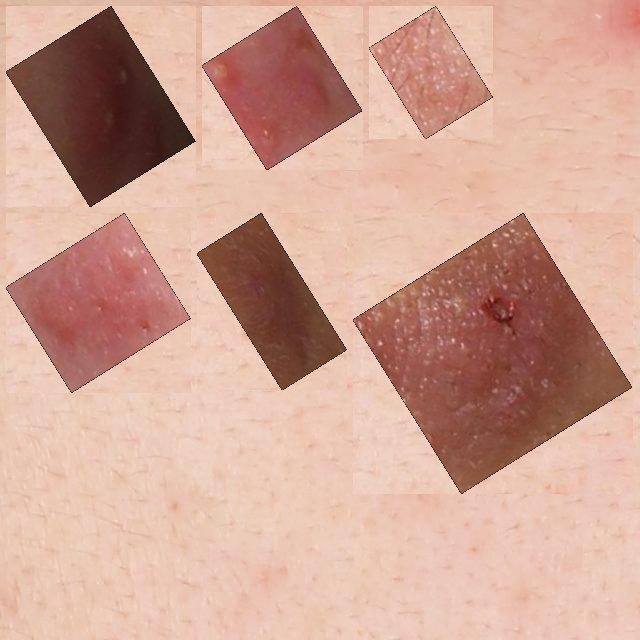nodule: (364, 224, 621, 482), (17, 17, 184, 196), (17, 224, 179, 381), (208, 224, 336, 379), (213, 17, 351, 159), (380, 17, 482, 128)
